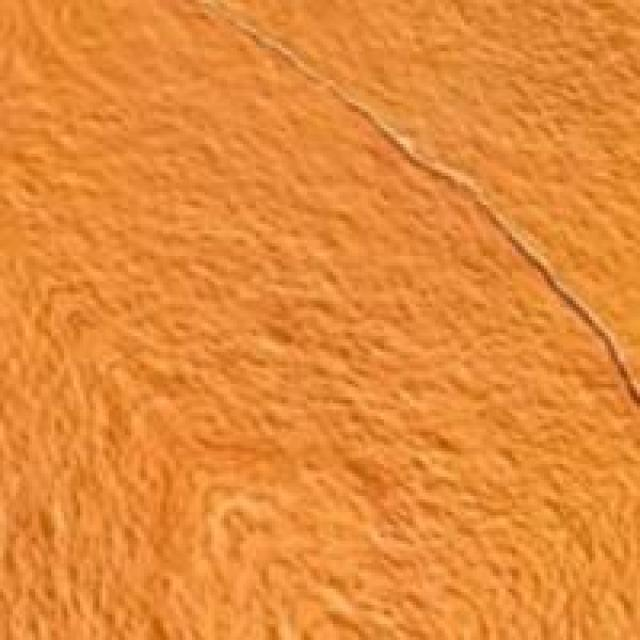Crack: (291, 0, 637, 426)
